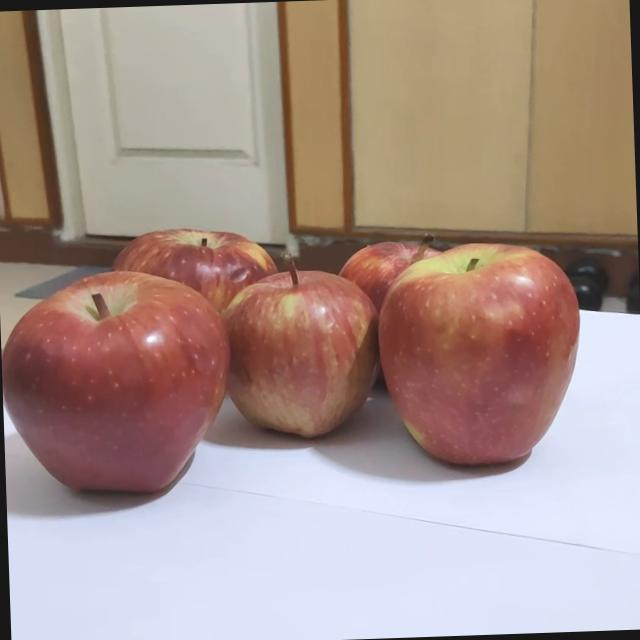apple: (16, 296, 257, 551), (66, 249, 268, 443), (411, 276, 604, 476), (252, 302, 424, 474), (296, 241, 442, 382)
